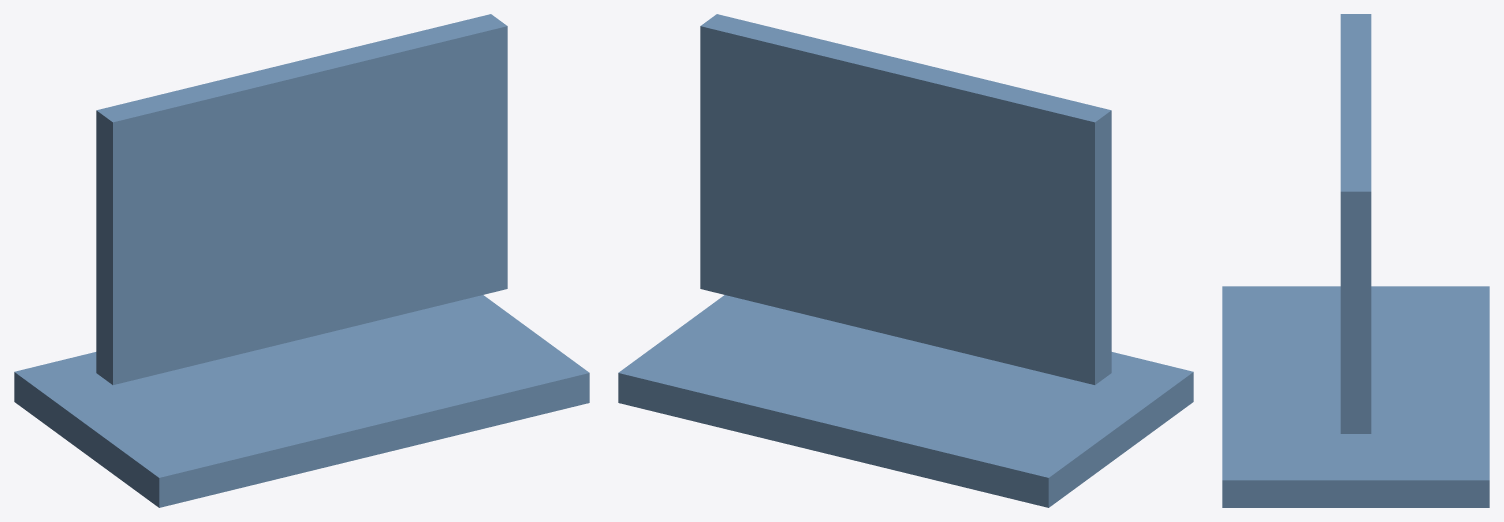
The model's file is 01_laptop.glb.
3 renders of one model, left to right at view 1: azimuth 30°, elevation 25°; view 2: azimuth 150°, elevation 25°; view 3: azimuth 270°, elevation 25°, orthographic. The views are drawn at different scales.
Visible parts, largest first — view 1: computer_01_laptop; view 2: computer_01_laptop; view 3: computer_01_laptop.
Boxes of the visible parts, bbox=[...] form: computer_01_laptop: bbox=[14, 14, 589, 507]; computer_01_laptop: bbox=[618, 14, 1193, 507]; computer_01_laptop: bbox=[1222, 14, 1489, 507].
Bounding box in the file's own units: 0.6 × 0.445 × 0.35.
